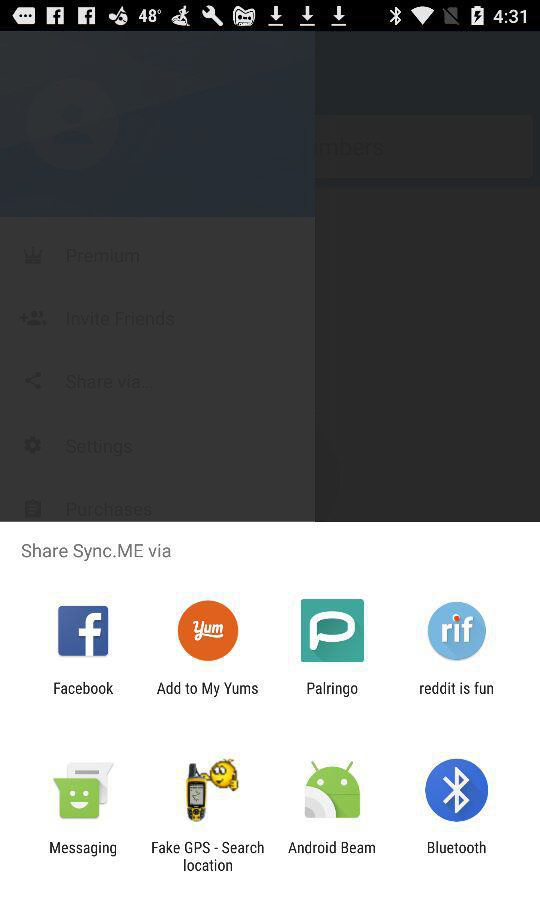Icon: (424, 758, 489, 823), (58, 606, 110, 657)
Image: (301, 599, 365, 663), (178, 600, 239, 662), (185, 758, 241, 823), (427, 601, 487, 661), (53, 761, 115, 819), (304, 760, 361, 819)
Modal: (1, 522, 540, 897)
Text: (152, 840, 265, 872), (22, 543, 173, 562), (157, 681, 259, 698), (288, 840, 377, 854), (50, 841, 118, 858), (419, 681, 494, 696), (427, 840, 487, 855), (307, 681, 359, 698), (54, 681, 115, 695)
UpperTaskBar: (1, 1, 540, 33)
